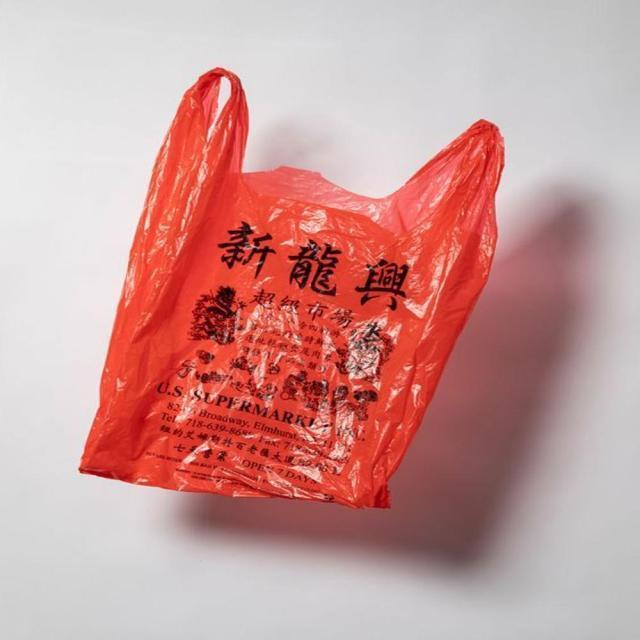Plastic_Bag: (80, 64, 497, 518)
